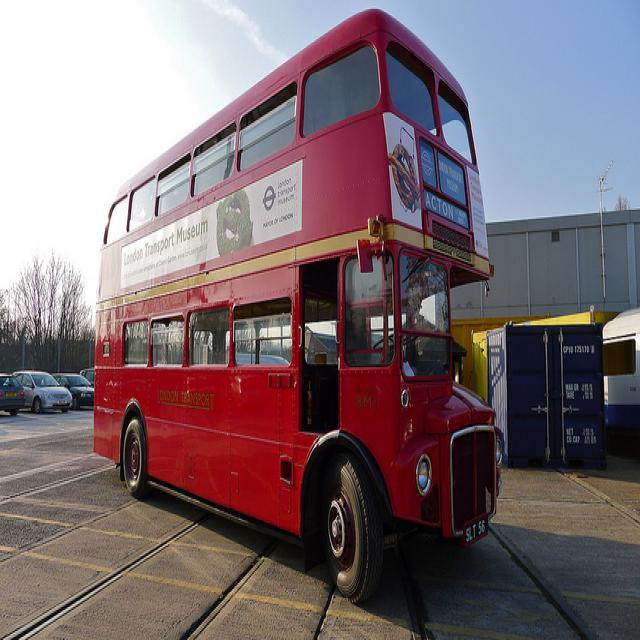Vehicle: (87, 6, 502, 608), (14, 372, 73, 413), (53, 373, 96, 413), (0, 372, 25, 416), (81, 369, 95, 388)
